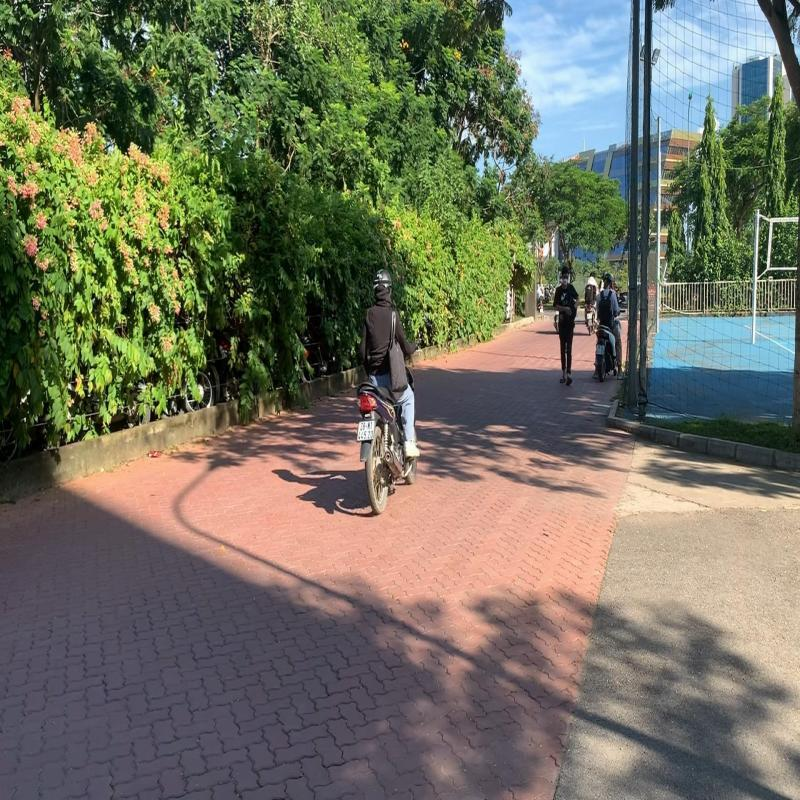helmet: (372, 268, 394, 299)
licenseplate: (356, 416, 378, 445)
motorcyclist: (354, 266, 422, 516)
